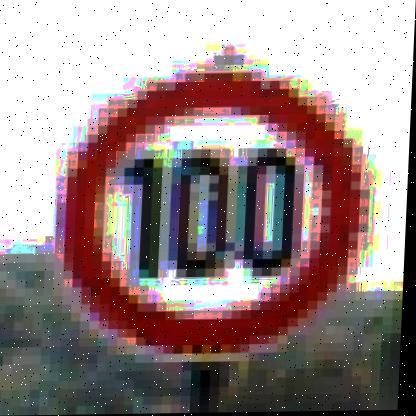Speed Limit -100-: (49, 61, 377, 368)
